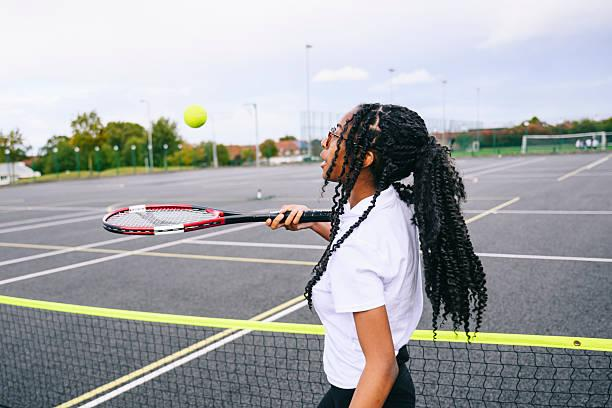ball_tennis: (184, 104, 207, 128)
